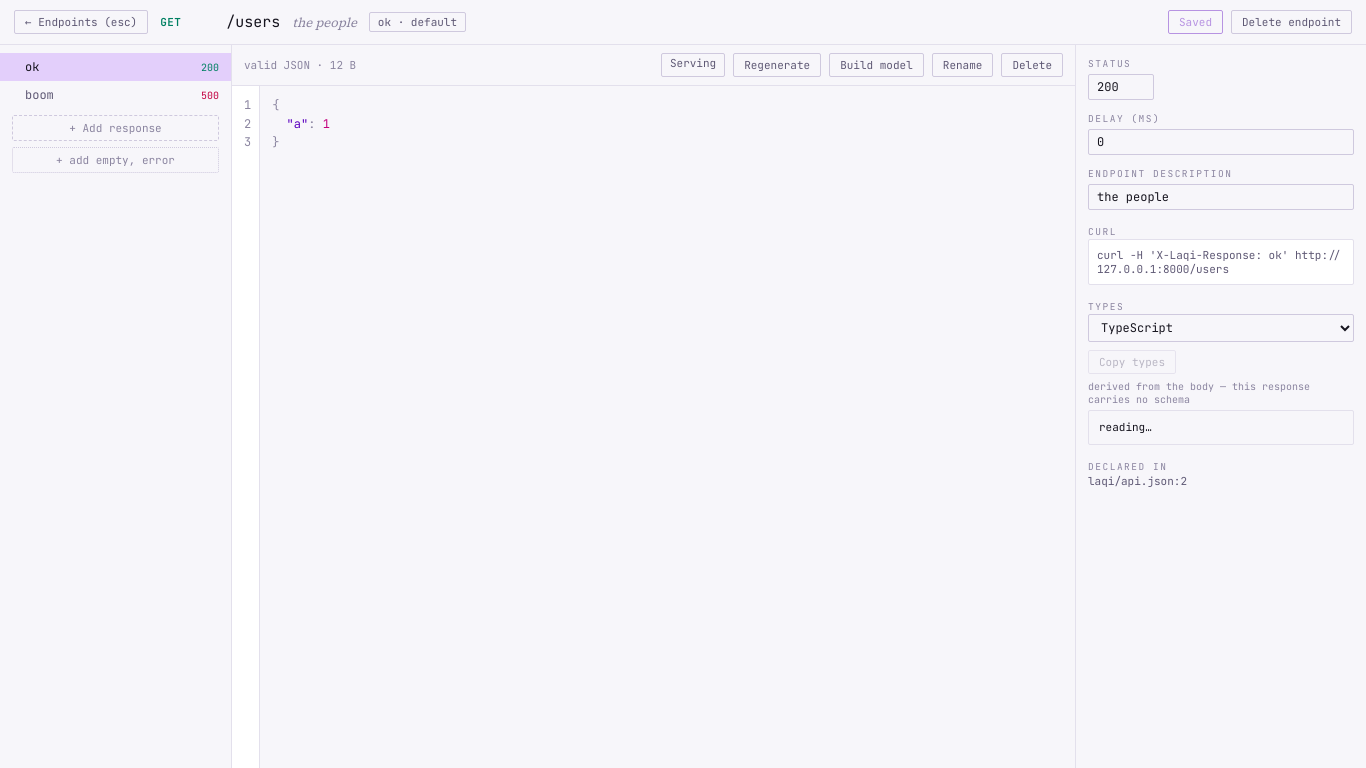
Scenario: renaming a response (no window.prompt) › opens a dialog pre-filled with the current name, focused, instead of window.prompt
The width and height of the screenshot is (1366, 768).
Click the button "Rename" at (963, 65), box [932, 53, 993, 77]
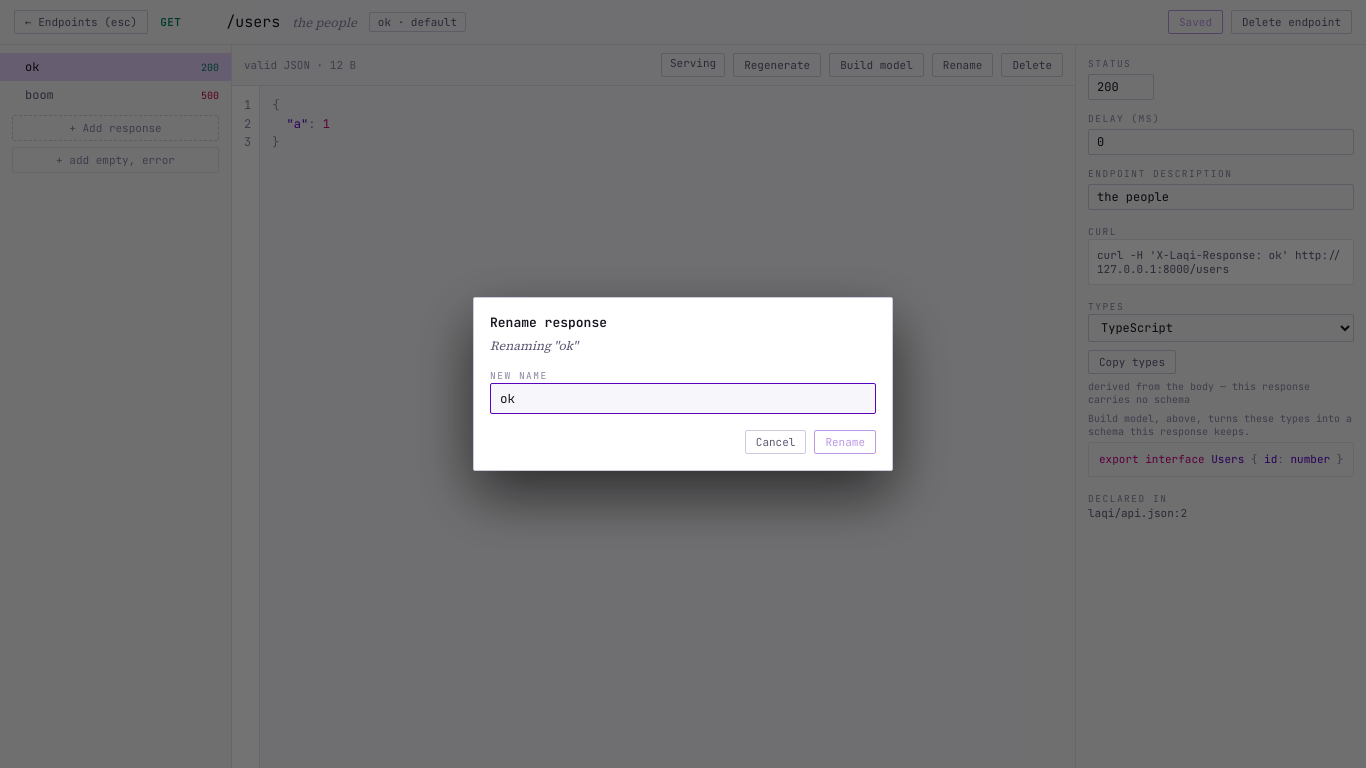
Check: the field labelled "new name" holds "ok", box [490, 383, 876, 414]
